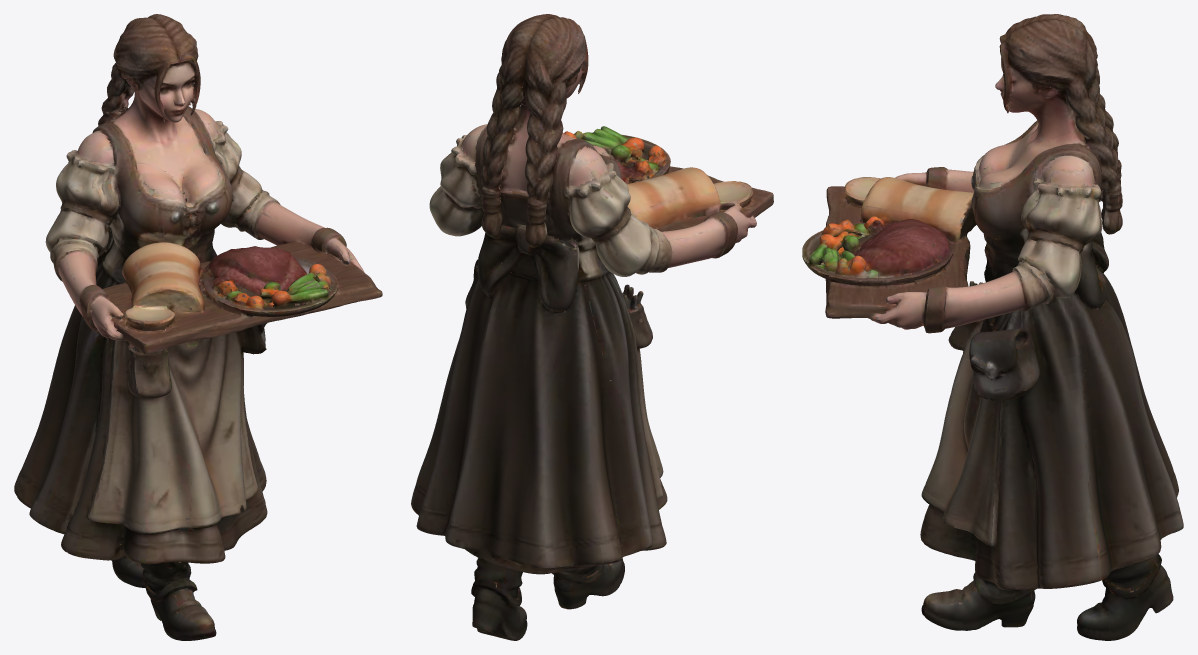
Rendered from waitress1.glb.
3 views of the same model, side by side, from view 1: azimuth 30°, elevation 25°; view 2: azimuth 150°, elevation 25°; view 3: azimuth 270°, elevation 25° (orthographic). The views are drawn at different scales.
Visible parts, largest first — view 1: output; view 2: output; view 3: output.
Part boxes in pixels (x1,y1,x2,y2): output: (14, 14, 382, 640); output: (411, 14, 773, 640); output: (802, 14, 1183, 640).
Size of the model in its own units: 0.8963 by 1.91 by 1.08.
Materials: 1 (1 with a texture image).
